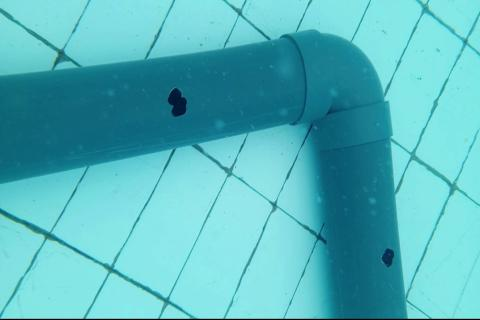kebocoran: (166, 86, 188, 118), (382, 247, 395, 268)
